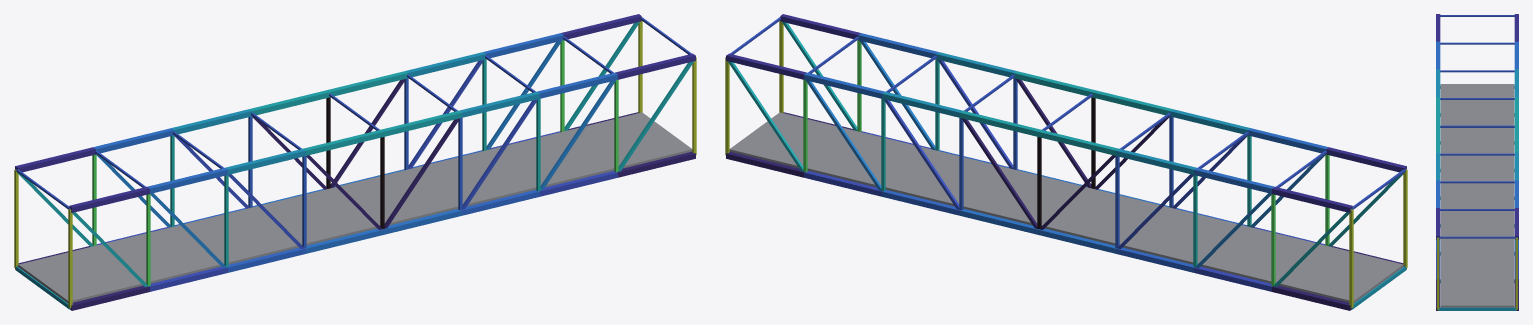
The model's file is 20_3_8_HEA160.glb.
3 views of the same model, side by side, from view 1: azimuth 30°, elevation 25°; view 2: azimuth 150°, elevation 25°; view 3: azimuth 270°, elevation 25° (orthographic). The views are drawn at different scales.
Bounding box in the file's own units: 20.09 × 3.16 × 3.16.
